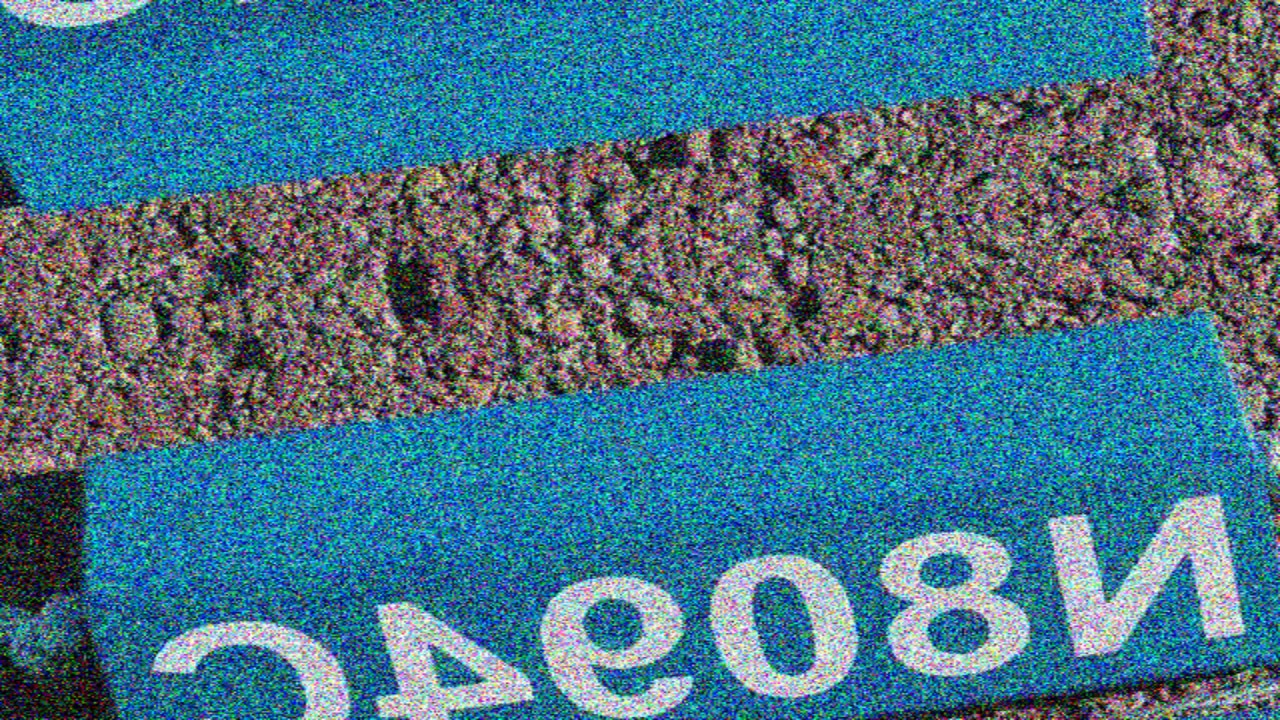chock: (55, 296, 1280, 720), (0, 0, 1181, 231)
